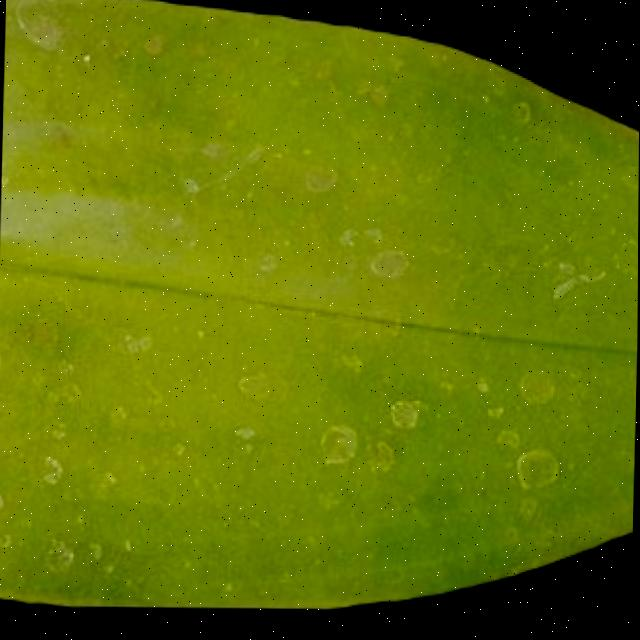mite: (10, 0, 66, 54), (513, 446, 562, 493), (233, 368, 289, 407), (315, 421, 360, 469), (515, 369, 558, 408), (366, 248, 413, 281), (39, 536, 78, 575), (384, 398, 426, 433), (507, 98, 538, 130)
